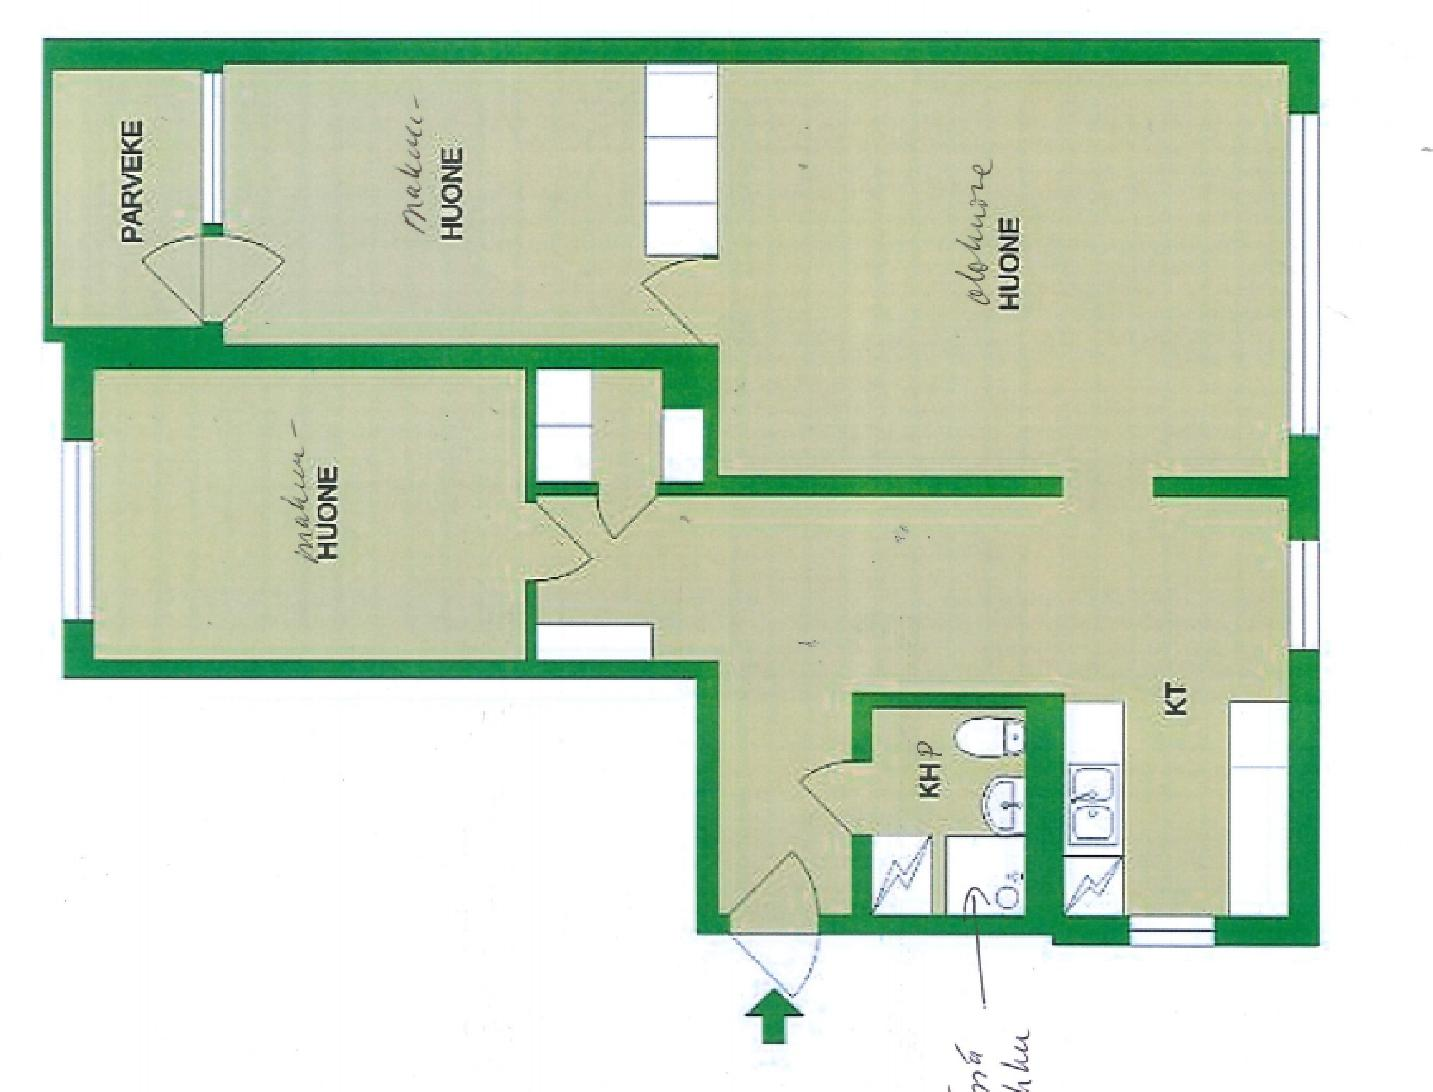door: (721, 851, 830, 1004), (141, 231, 294, 325), (632, 258, 730, 344), (792, 752, 870, 843), (523, 500, 595, 592), (601, 481, 664, 539)
window: (1286, 114, 1317, 437), (60, 442, 91, 623), (196, 72, 228, 223), (1293, 535, 1317, 643)
zone: (220, 63, 1296, 479), (529, 494, 1298, 916), (95, 370, 527, 657), (50, 64, 202, 323), (864, 707, 1021, 914), (531, 365, 696, 478)
